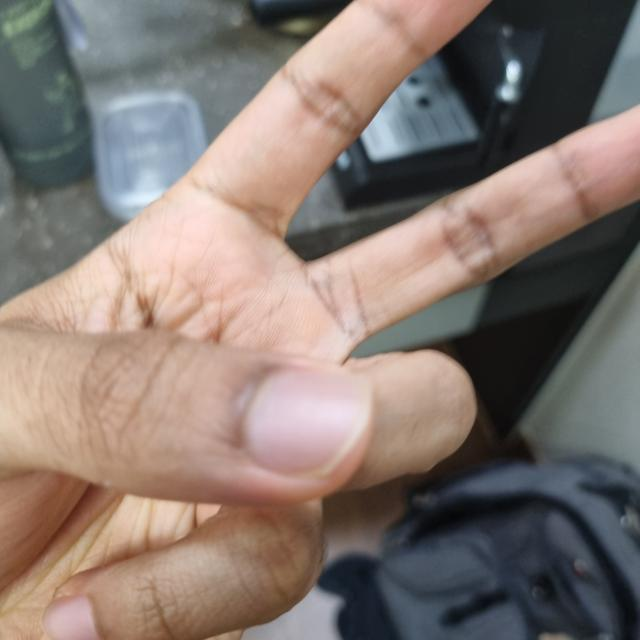Scissors: (0, 3, 639, 590)
